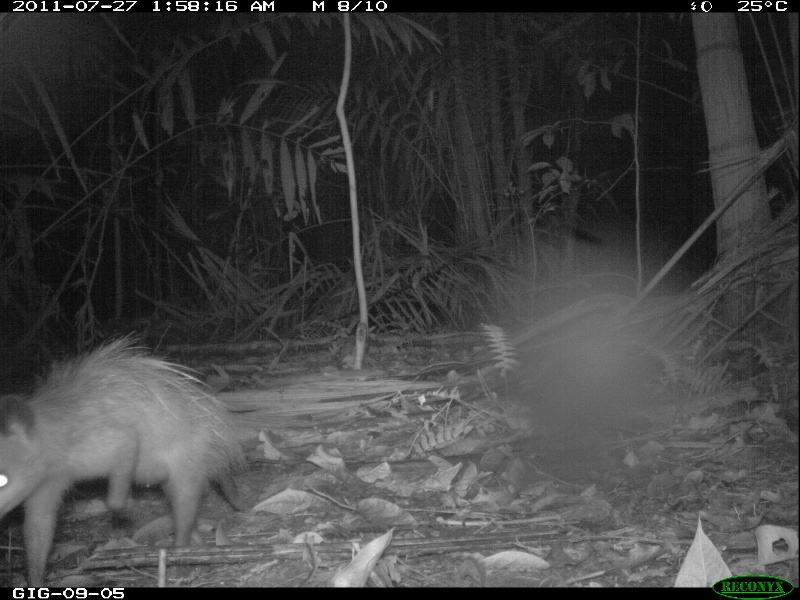opossum: (1, 338, 255, 585)
